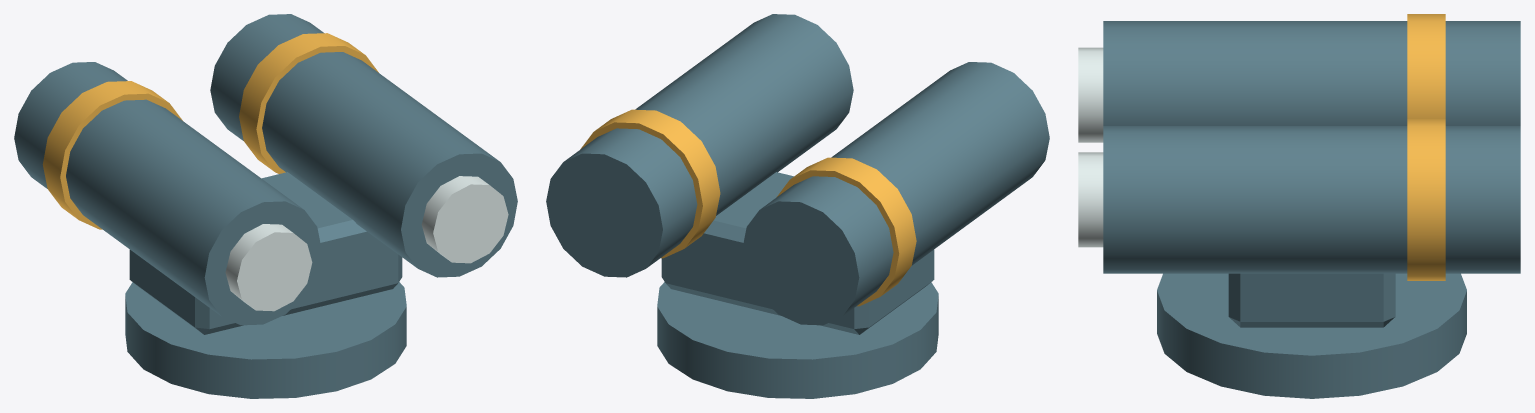
File: convoy-missile.glb
3 renders of one model, left to right at view 1: azimuth 30°, elevation 25°; view 2: azimuth 150°, elevation 25°; view 3: azimuth 270°, elevation 25°, orthographic. The views are drawn at different scales.
Parts seen in each view (by area): view 1: Launch tube, Launch tube.001, Roof mount, Mechanism, Missile nose.001, Missile nose, Tube band, Tube band.001; view 2: Launch tube, Launch tube.001, Roof mount, Mechanism, Tube band, Tube band.001; view 3: Launch tube.001, Launch tube, Roof mount, Mechanism, Tube band.001, Tube band, Missile nose, Missile nose.001.
Boxes of the visible parts, x1,y1,x2,y2 form: Launch tube: (14,62,321,325); Launch tube.001: (210,14,517,277); Roof mount: (125,282,406,398); Mechanism: (129,172,402,334); Missile nose.001: (421,176,508,263); Missile nose: (225,224,312,311); Tube band: (42,81,182,229); Tube band.001: (239,33,378,173); Launch tube: (742,62,1049,325); Launch tube.001: (546,14,853,277); Roof mount: (657,282,938,398); Mechanism: (661,172,934,334); Tube band: (776,157,916,306); Tube band.001: (580,109,720,258); Launch tube.001: (1103,126,1520,273); Launch tube: (1103,21,1520,125); Roof mount: (1157,273,1466,398); Mechanism: (1228,273,1395,327); Tube band.001: (1407,119,1445,280); Tube band: (1407,14,1445,118); Missile nose: (1078,47,1103,142); Missile nose.001: (1078,152,1103,247).
Size of the model in its own units: 1.72 by 1.2 by 1.85.
